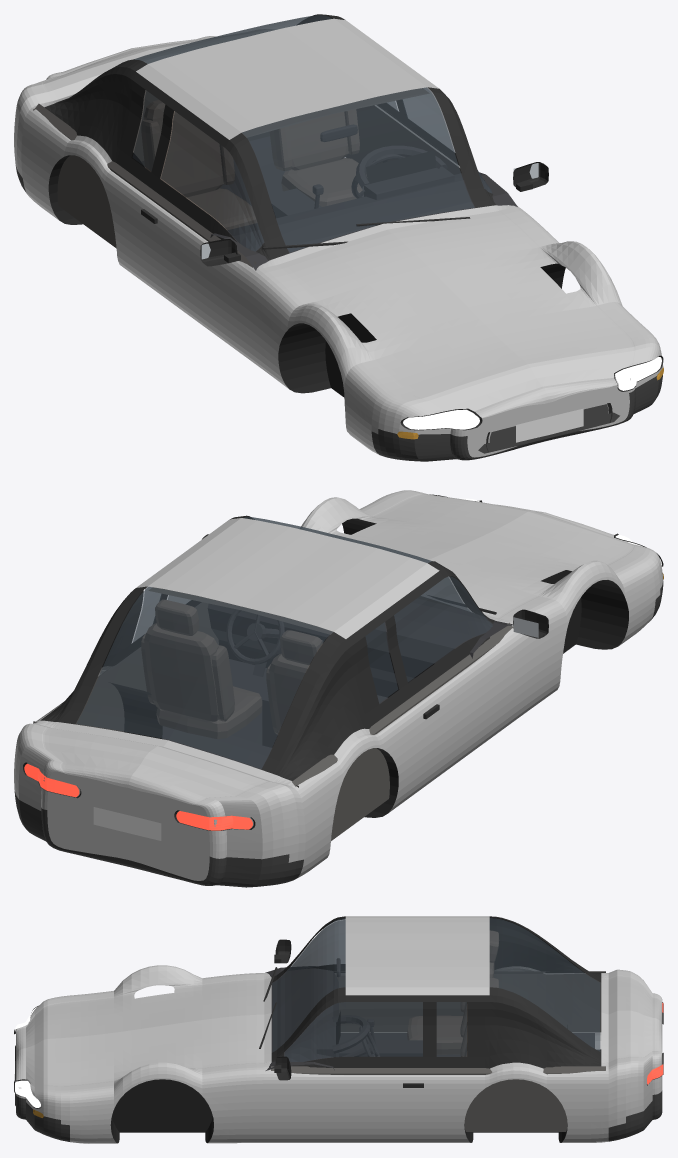
File: car_ronin.fbx
The picture shows the model from 3 angles, top to bottom: view 1: azimuth 30°, elevation 25°; view 2: azimuth 150°, elevation 25°; view 3: azimuth 270°, elevation 25°; orthographic projection. The views are drawn at different scales.
Visible parts, largest first — view 1: ronin__hood, ronin__glass, ronin__roof, ronin__interior, ronin__seats, ronin__pillars, ronin__fenderFR, ronin__doorR, ronin__cabin, ronin__quarterR, ronin__trunk, ronin__wells (+10 smaller); view 2: ronin__glass, ronin__hood, ronin__roof, ronin__pillars, ronin__seats, ronin__interior, ronin__trunk, ronin__rearPanel, ronin__quarterR, ronin__doorR, ronin__cabin, ronin__fenderFR (+7 smaller); view 3: ronin__hood, ronin__glass, ronin__cabin, ronin__pillars, ronin__doorL, ronin__roof, ronin__fenderFL, ronin__quarterL, ronin__interior, ronin__trunk, ronin__wells, ronin__seals (+7 smaller).
Boxes of the visible parts, left/top/right/bottom form: ronin__hood: left=259, top=207, right=650, bottom=417; ronin__glass: left=132, top=15, right=491, bottom=252; ronin__roof: left=136, top=18, right=438, bottom=139; ronin__interior: left=145, top=124, right=517, bottom=270; ronin__seats: left=141, top=100, right=366, bottom=230; ronin__pillars: left=44, top=14, right=495, bottom=260; ronin__fenderFR: left=237, top=265, right=450, bottom=454; ronin__doorR: left=123, top=186, right=248, bottom=356; ronin__cabin: left=33, top=88, right=461, bottom=267; ronin__quarterR: left=14, top=86, right=132, bottom=272; ronin__trunk: left=27, top=29, right=514, bottom=269; ronin__wells: left=48, top=152, right=565, bottom=397; ronin__glass: left=76, top=516, right=492, bottom=768; ronin__hood: left=305, top=490, right=650, bottom=621; ronin__roof: left=136, top=518, right=439, bottom=638; ronin__pillars: left=45, top=515, right=495, bottom=780; ronin__seats: left=141, top=599, right=322, bottom=738; ronin__interior: left=162, top=598, right=513, bottom=769; ronin__trunk: left=27, top=594, right=512, bottom=809; ronin__rearPanel: left=41, top=762, right=226, bottom=880; ronin__quarterR: left=219, top=718, right=407, bottom=879; ronin__doorR: left=398, top=630, right=521, bottom=804; ronin__cabin: left=33, top=587, right=512, bottom=840; ronin__fenderFR: left=510, top=549, right=663, bottom=720; ronin__hood: left=16, top=966, right=264, bottom=1092; ronin__glass: left=272, top=918, right=600, bottom=1061; ronin__cabin: left=271, top=971, right=605, bottom=1131; ronin__pillars: left=271, top=916, right=601, bottom=1066; ronin__doorL: left=276, top=1073, right=451, bottom=1142; ronin__roof: left=345, top=916, right=489, bottom=995; ronin__fenderFL: left=26, top=1062, right=276, bottom=1143; ronin__quarterL: left=452, top=1056, right=652, bottom=1142; ronin__interior: left=265, top=958, right=594, bottom=1070; ronin__trunk: left=264, top=969, right=662, bottom=1069; ronin__wells: left=110, top=1025, right=567, bottom=1143; ronin__seals: left=291, top=960, right=601, bottom=1068.
Bounding box in the file's own units: 2.2 × 1.17 × 4.69.
